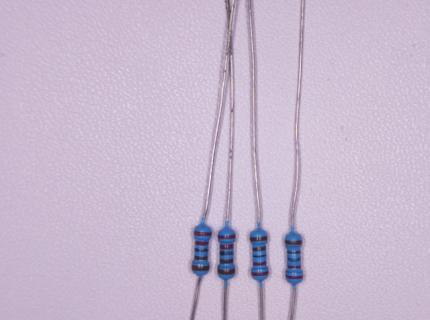Black band: (219, 250, 234, 256), (194, 247, 208, 253), (287, 257, 301, 262), (252, 254, 267, 258)
Brown band: (250, 236, 268, 243), (217, 269, 236, 275), (191, 265, 210, 271), (285, 240, 303, 245), (252, 246, 266, 252), (194, 255, 208, 261), (287, 249, 301, 254), (220, 259, 234, 264)
Red band: (194, 231, 212, 237), (218, 234, 236, 240), (251, 272, 269, 277), (286, 274, 303, 279), (195, 240, 209, 246), (220, 245, 234, 250), (253, 261, 266, 266), (288, 264, 301, 269)
